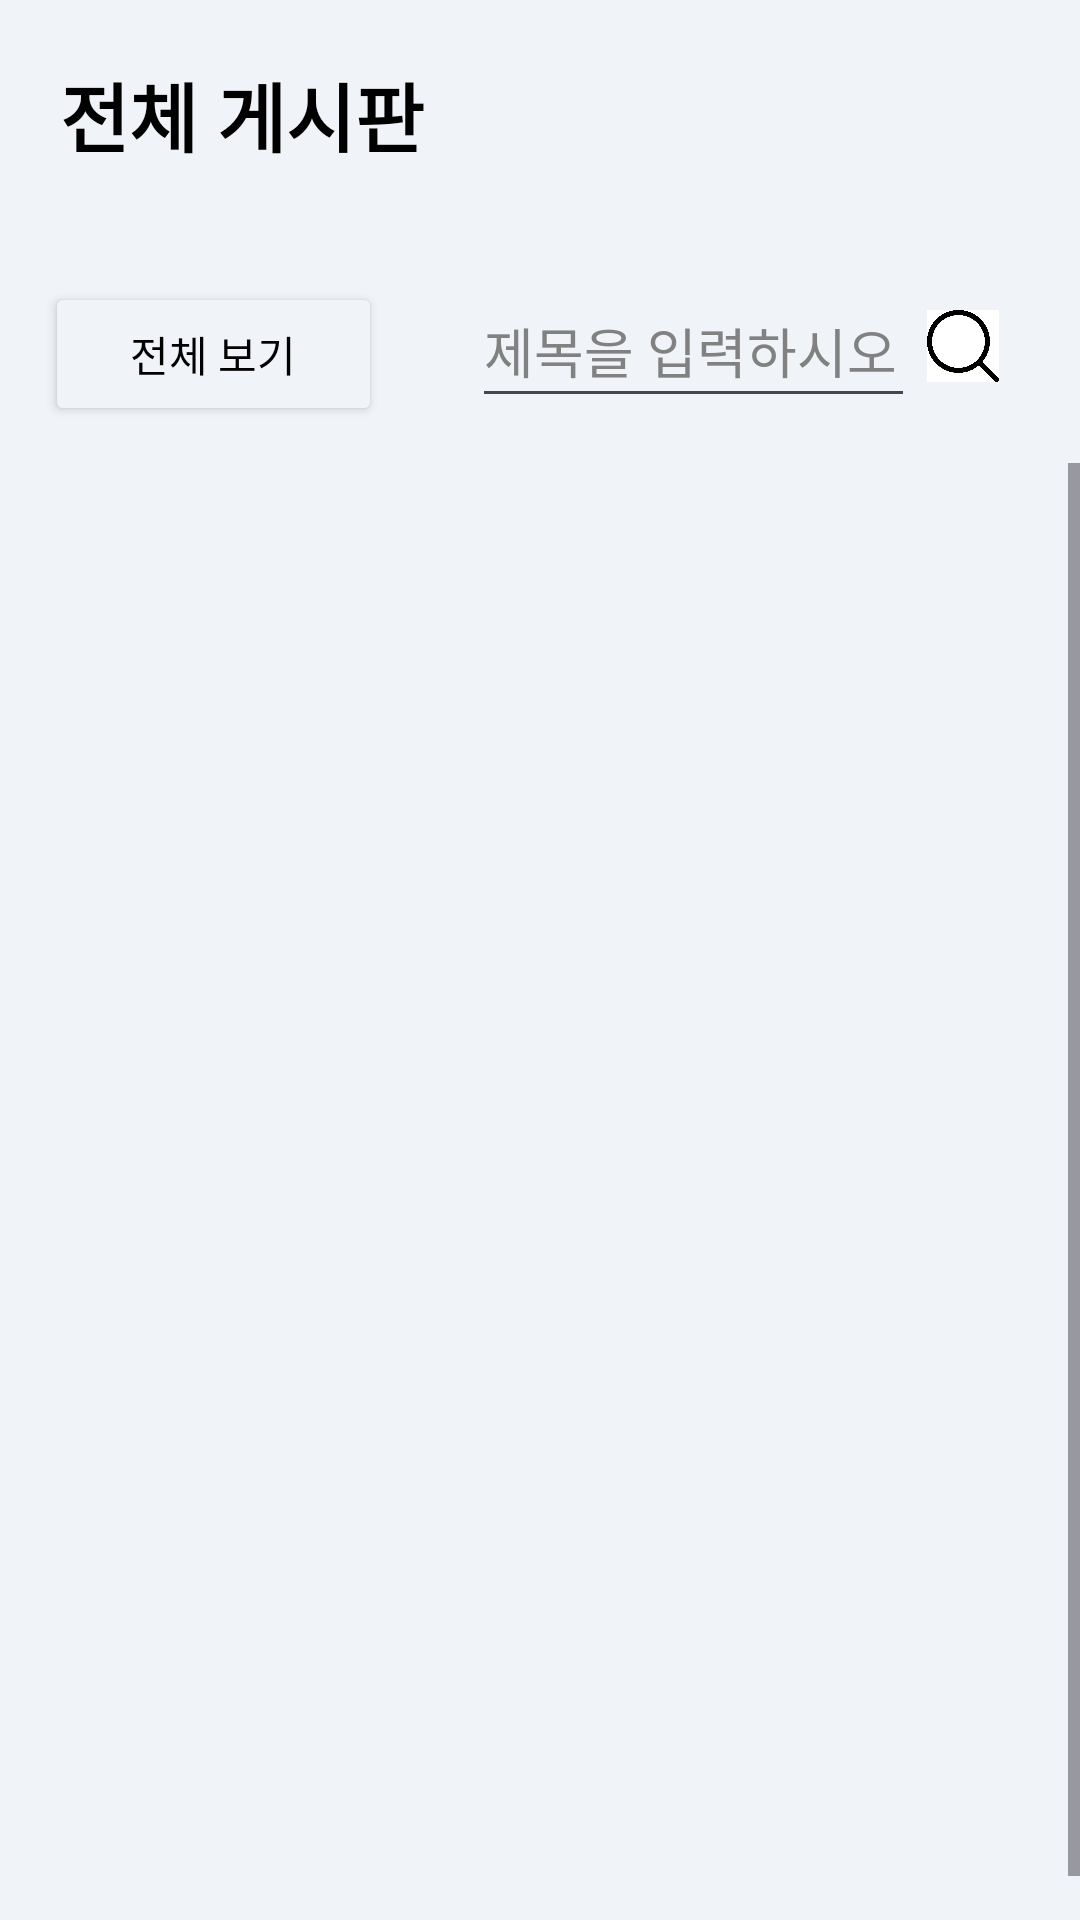

Screen size 1080 × 1920. Icon name, then its box in pixels as box=[x1, y1, x2, y2]:
search: box=[927, 310, 999, 382]
